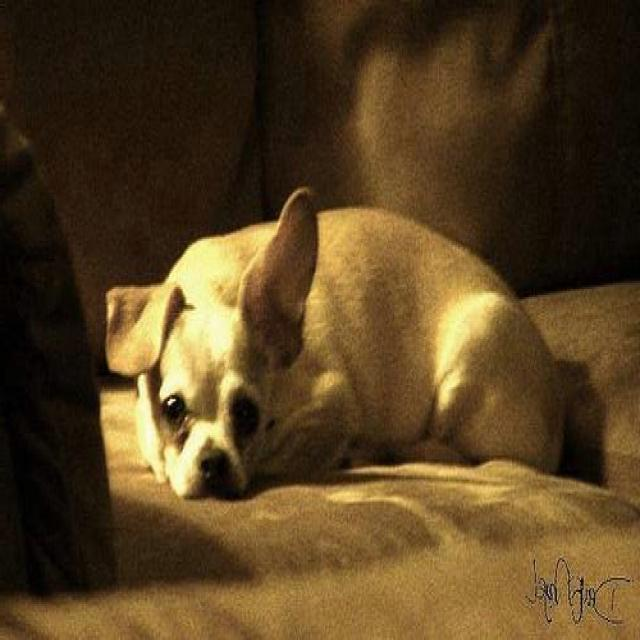chihuahua: (105, 180, 559, 498)
